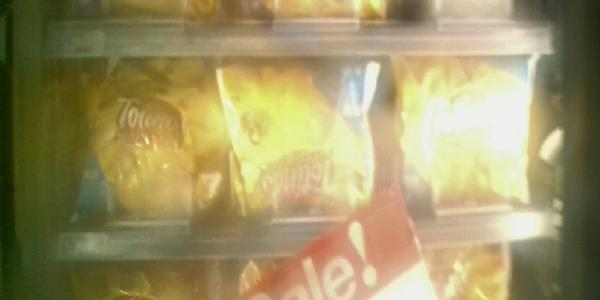icecream: (72, 41, 221, 247), (213, 59, 386, 220), (389, 56, 539, 209)
